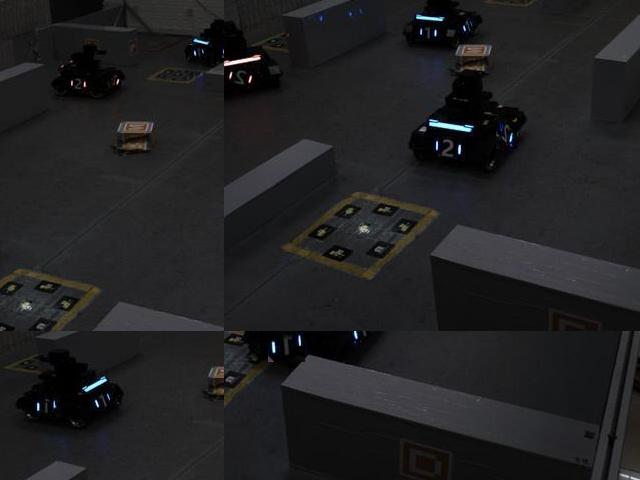armor: (268, 331, 308, 364), (430, 135, 467, 166), (226, 66, 261, 90), (496, 118, 518, 150), (33, 395, 62, 419), (413, 22, 439, 45), (347, 331, 378, 348), (66, 74, 90, 92), (191, 44, 207, 61), (108, 72, 122, 89)
